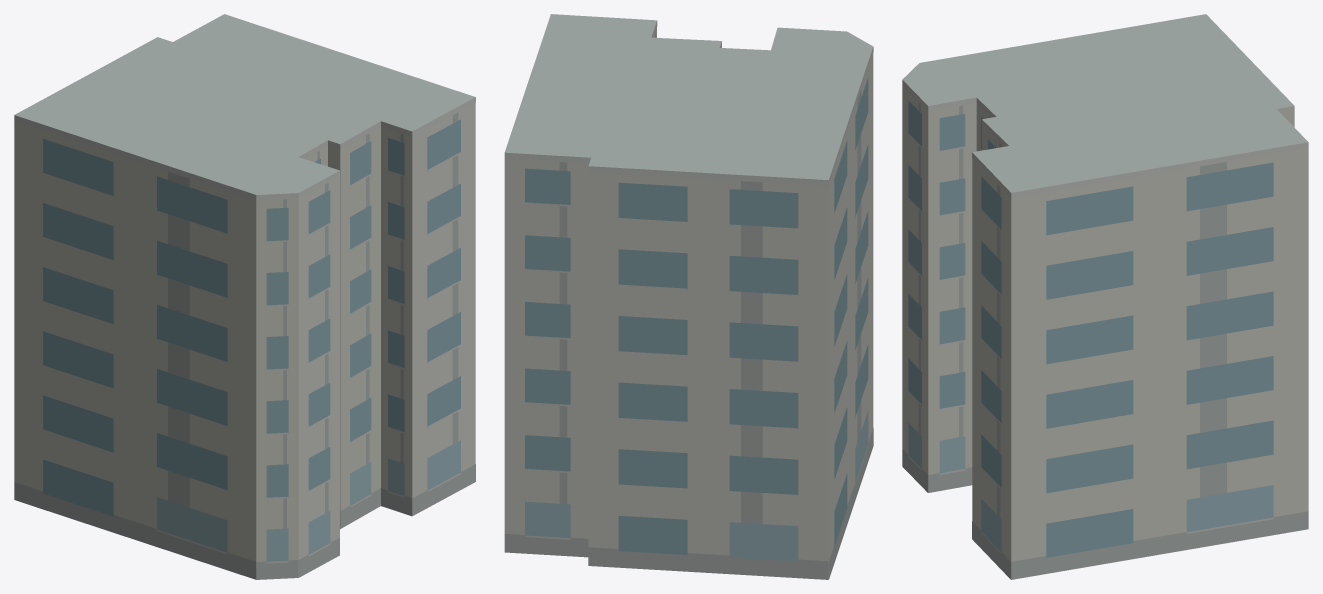
File: survey-upis-32845583.glb
The picture shows the model from 3 angles, left to right: view 1: azimuth 30°, elevation 25°; view 2: azimuth 150°, elevation 25°; view 3: azimuth 270°, elevation 25°; orthographic projection. The views are drawn at different scales.
Parts seen in each view (by area): view 1: survey-upis-32845583.tmp; view 2: survey-upis-32845583.tmp; view 3: survey-upis-32845583.tmp.
Part boxes in pixels (box(x1,y1,x2,y2)): survey-upis-32845583.tmp: box(14, 14, 475, 579); survey-upis-32845583.tmp: box(504, 14, 873, 579); survey-upis-32845583.tmp: box(902, 14, 1308, 579).
Size of the model in its own units: 16.16 by 16.29 by 15.51.
